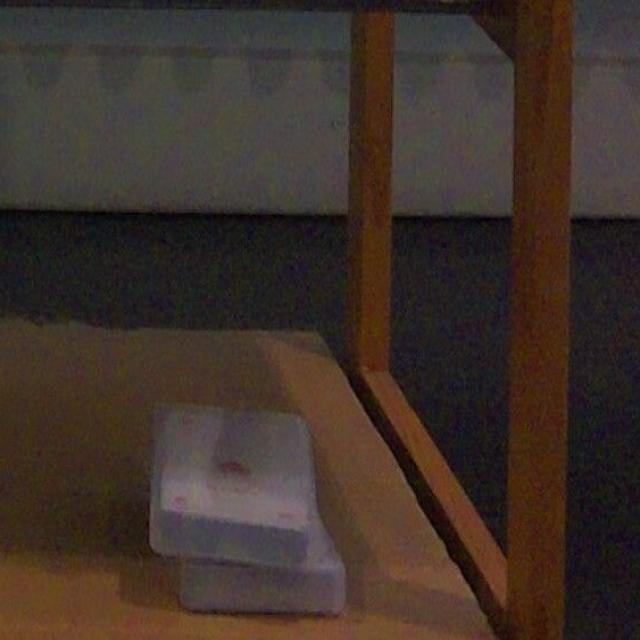Jasskarte: (149, 405, 316, 565), (180, 509, 346, 615)
